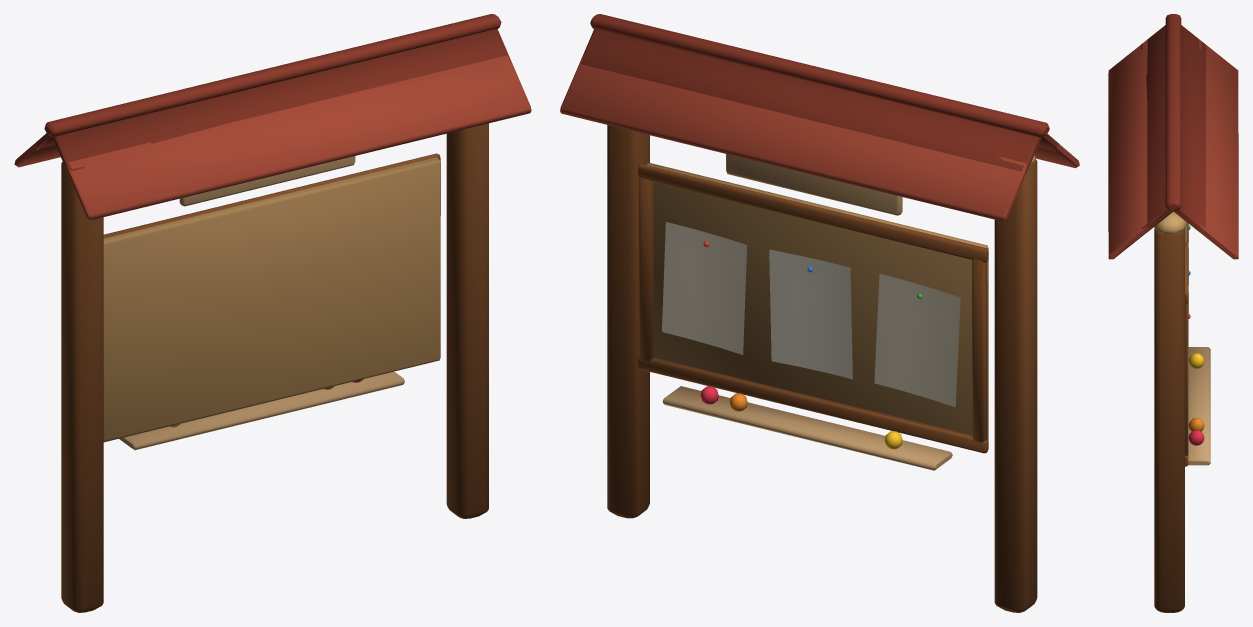
File: order_board.glb
3 views of the same model, side by side, from view 1: azimuth 30°, elevation 25°; view 2: azimuth 150°, elevation 25°; view 3: azimuth 270°, elevation 25° (orthographic). The views are drawn at different scales.
Parts seen in each view (by area): view 1: order_board; view 2: order_board; view 3: order_board.
Boxes of the visible parts, <box> form: order_board: <box>14,14,531,612</box>; order_board: <box>560,14,1079,612</box>; order_board: <box>1108,14,1238,612</box>.
Bounding box in the file's own units: 2.34 × 2.43 × 0.682.
